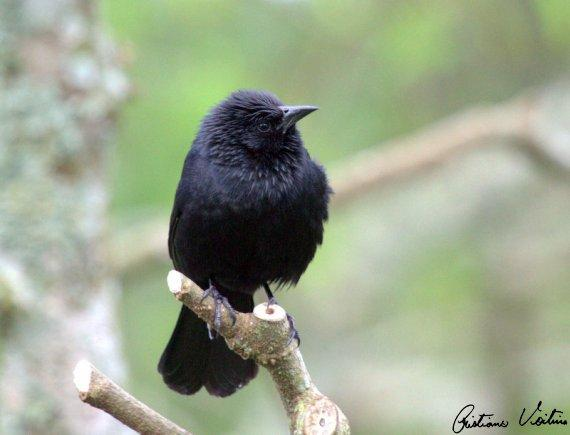grauna: (158, 86, 337, 402)
